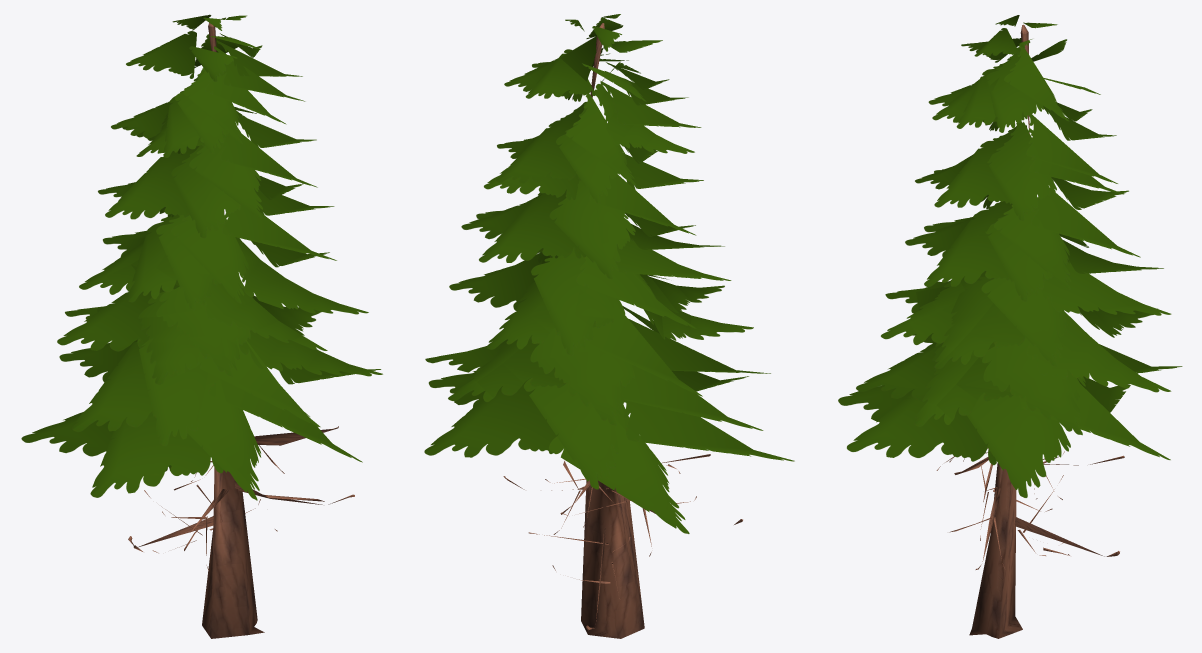
Rendered from pine_4.glb.
The picture shows the model from 3 angles, left to right: view 1: azimuth 30°, elevation 25°; view 2: azimuth 150°, elevation 25°; view 3: azimuth 270°, elevation 25°; orthographic projection. The views are drawn at different scales.
Parts seen in each view (by area): view 1: Pine_4; view 2: Pine_4; view 3: Pine_4.
Boxes of the visible parts, bbox=[...] form: Pine_4: bbox=[21, 14, 382, 638]; Pine_4: bbox=[424, 14, 794, 638]; Pine_4: bbox=[838, 15, 1182, 638].
Size of the model in its own units: 5.8 by 10.03 by 5.37.
Materials: 2 (2 with a texture image).
